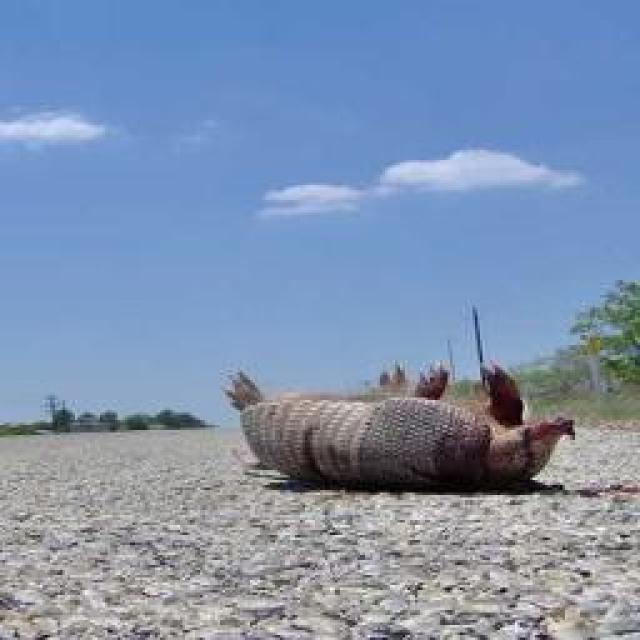not_pig: (220, 358, 575, 492)
